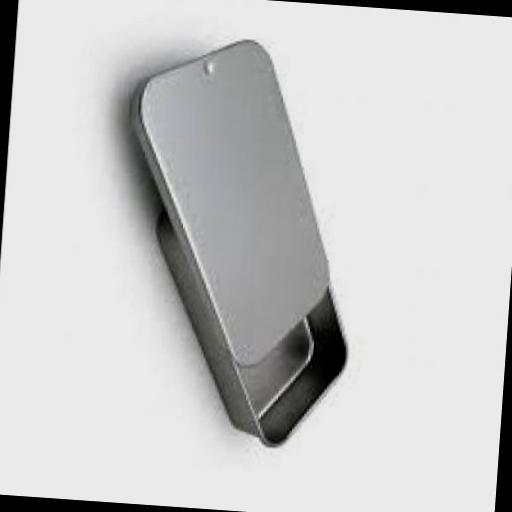metal: (118, 30, 348, 371), (142, 207, 360, 450)
